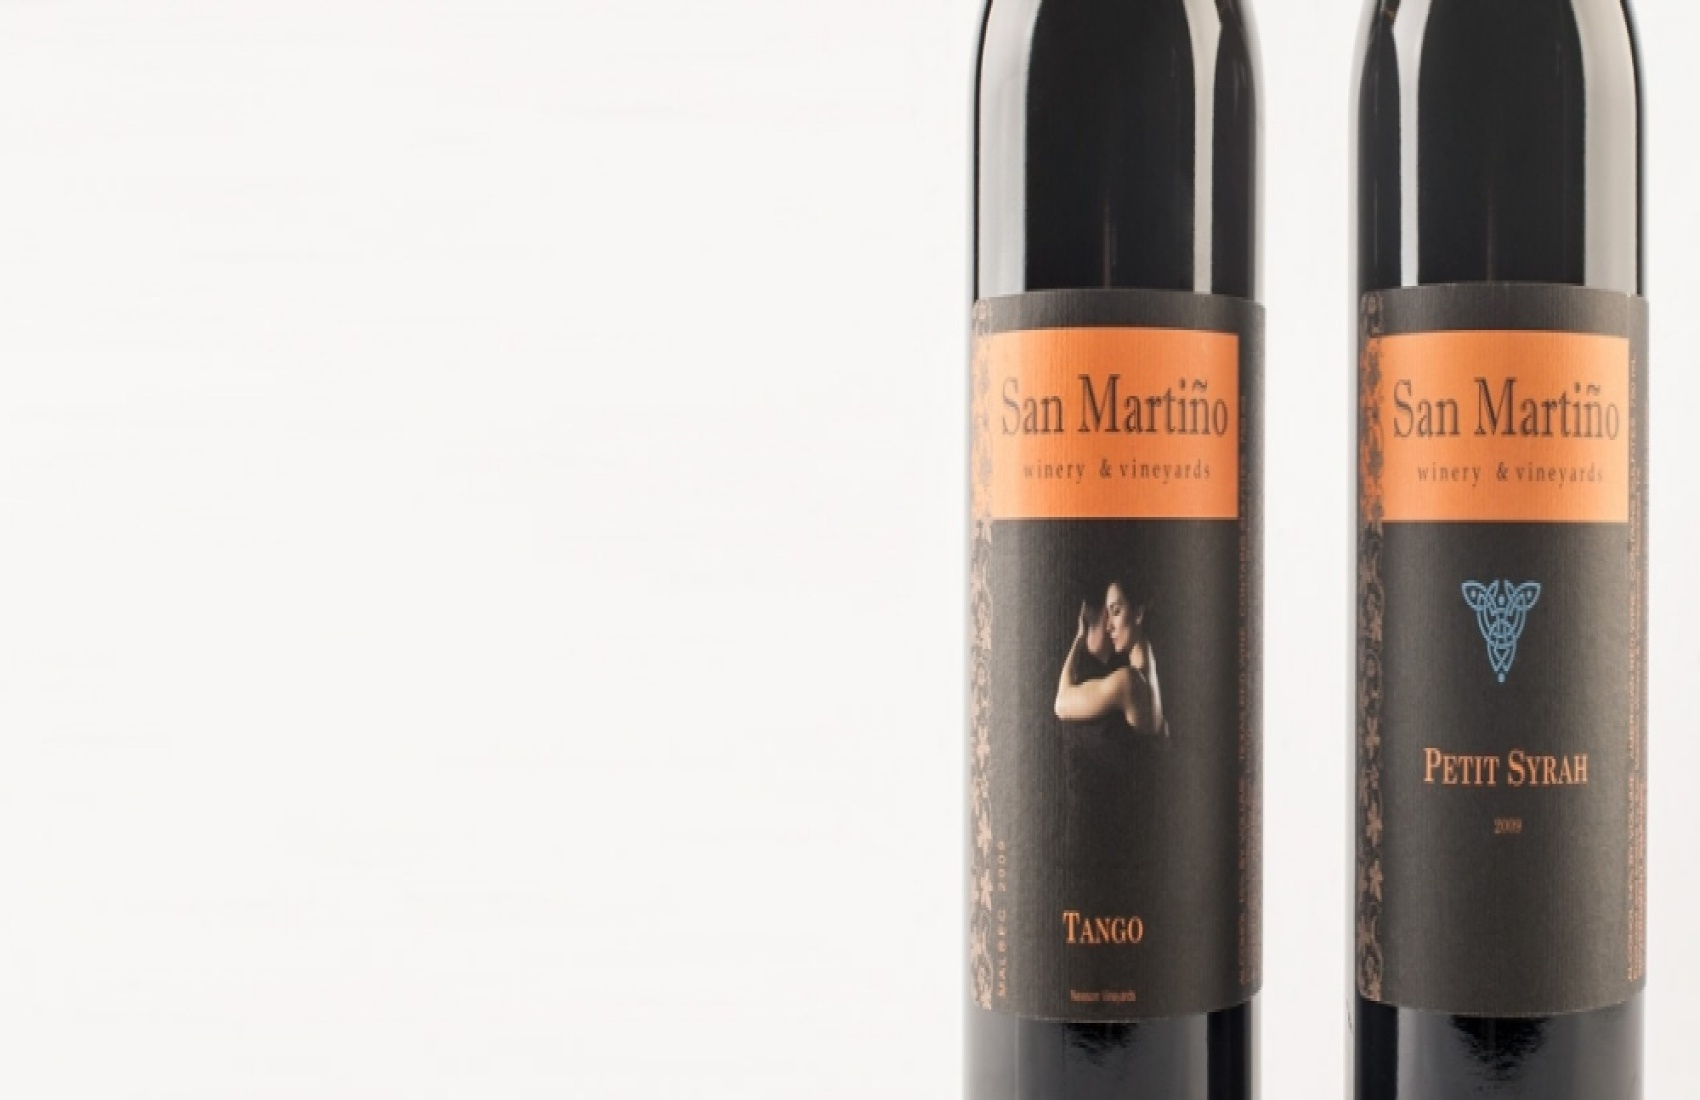wine: (966, 7, 1263, 1100), (1359, 1, 1655, 1093)
